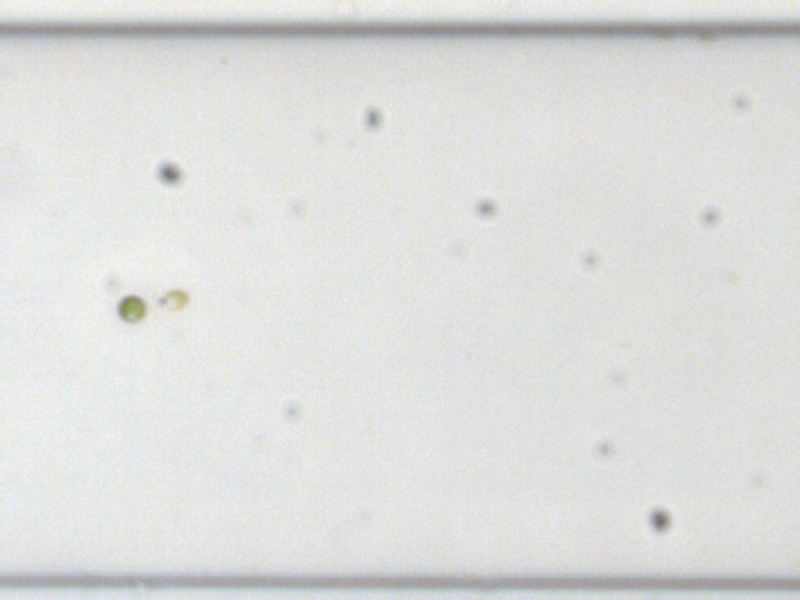Chlorella: (116, 293, 147, 325)
Dunaliella salina: (154, 287, 192, 311)
